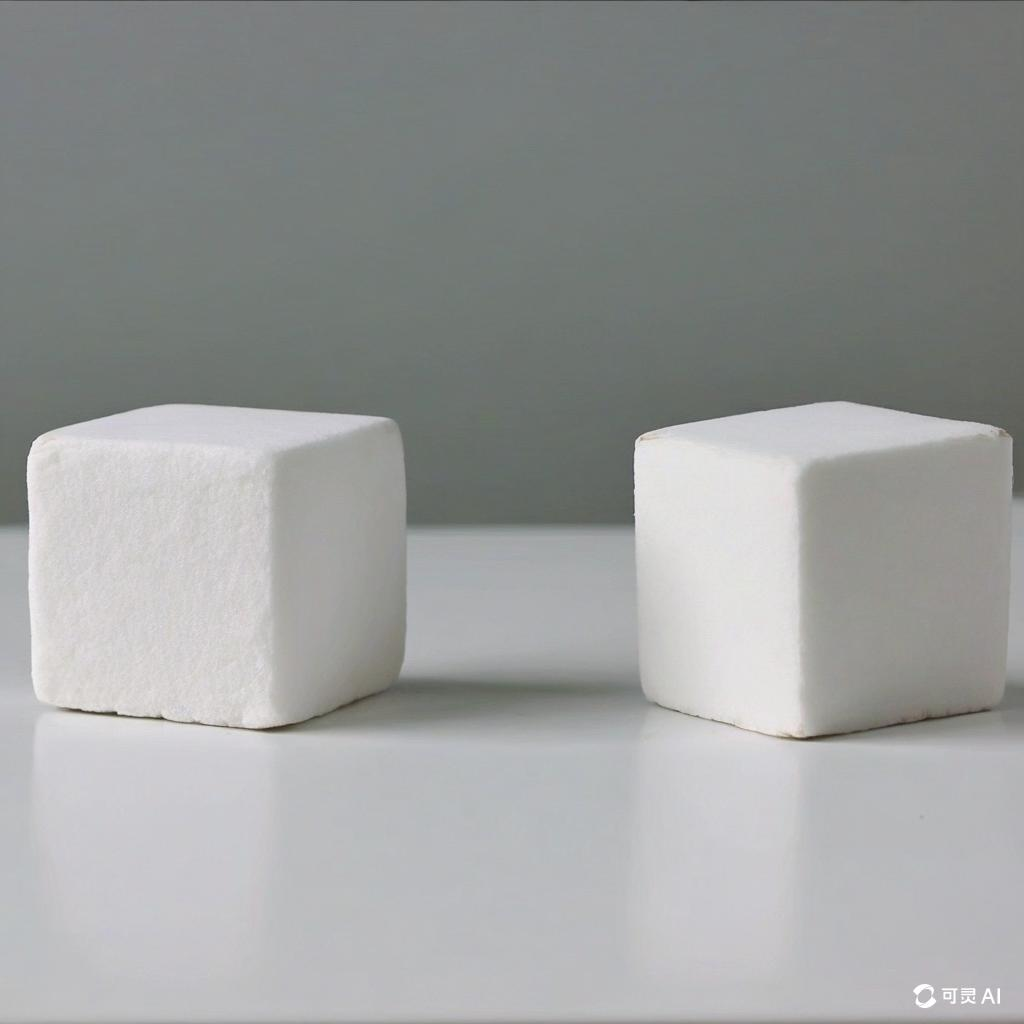cube: (632, 398, 1014, 739), (25, 401, 408, 730)
